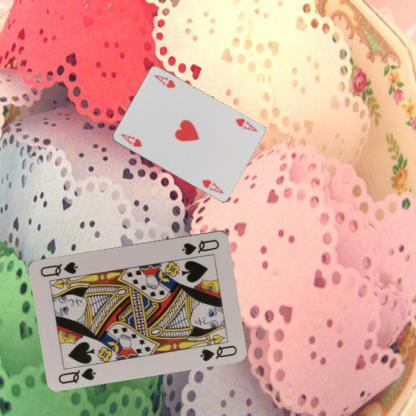Ah: (232, 116, 258, 134), (118, 131, 143, 149)
Qs: (56, 364, 98, 384), (180, 236, 221, 256)
